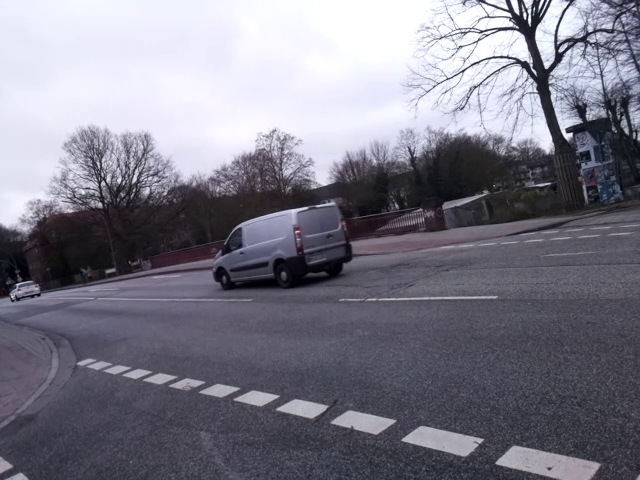car: (209, 200, 359, 287)
